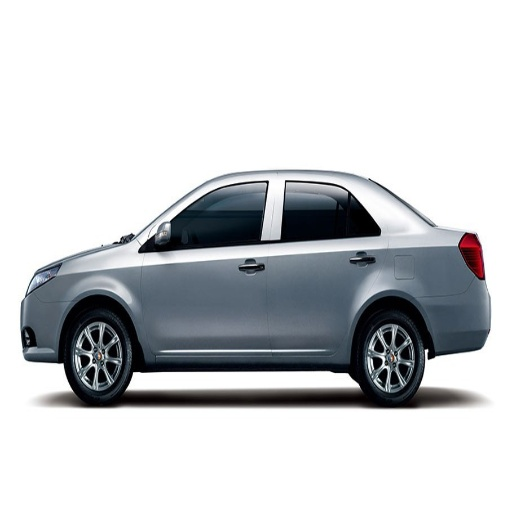back_left_door: (268, 175, 386, 353)
front_left_door: (142, 175, 279, 353)
